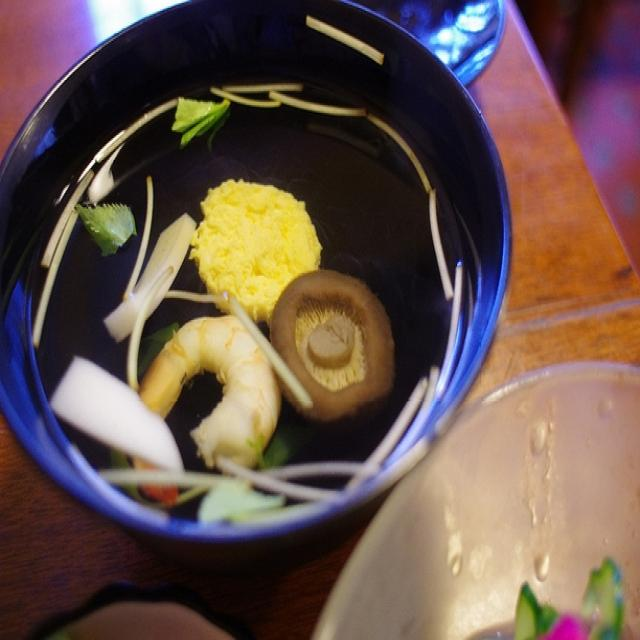汤锅炖物: (20, 39, 481, 541)
